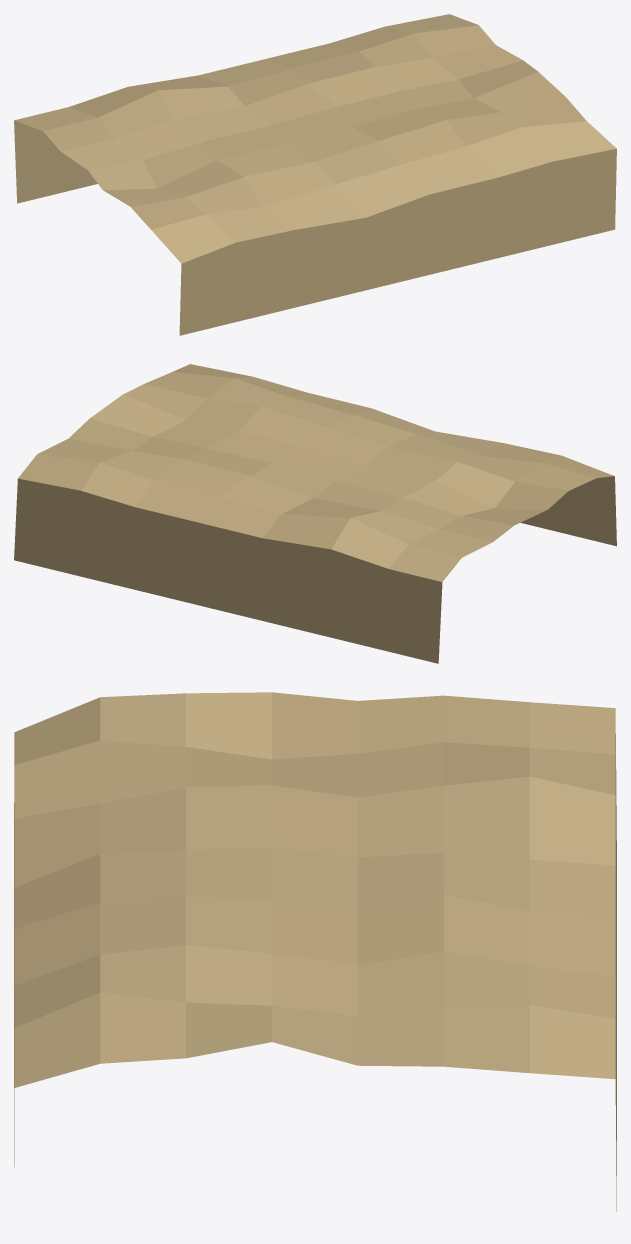
File: beach_section.fbx
3 views of the same model, one above another, from view 1: azimuth 30°, elevation 25°; view 2: azimuth 150°, elevation 25°; view 3: azimuth 270°, elevation 25° (orthographic). The views are drawn at different scales.
Parts seen in each view (by area): view 1: Beach.001; view 2: Beach.001; view 3: Beach.001.
Part boxes in pixels (x1=…): Beach.001: x1=14, y1=14, x2=616, y2=335; Beach.001: x1=14, y1=364, x2=616, y2=663; Beach.001: x1=14, y1=692, x2=616, y2=1211.
Size of the model in its own units: 796 by 180 by 528.
